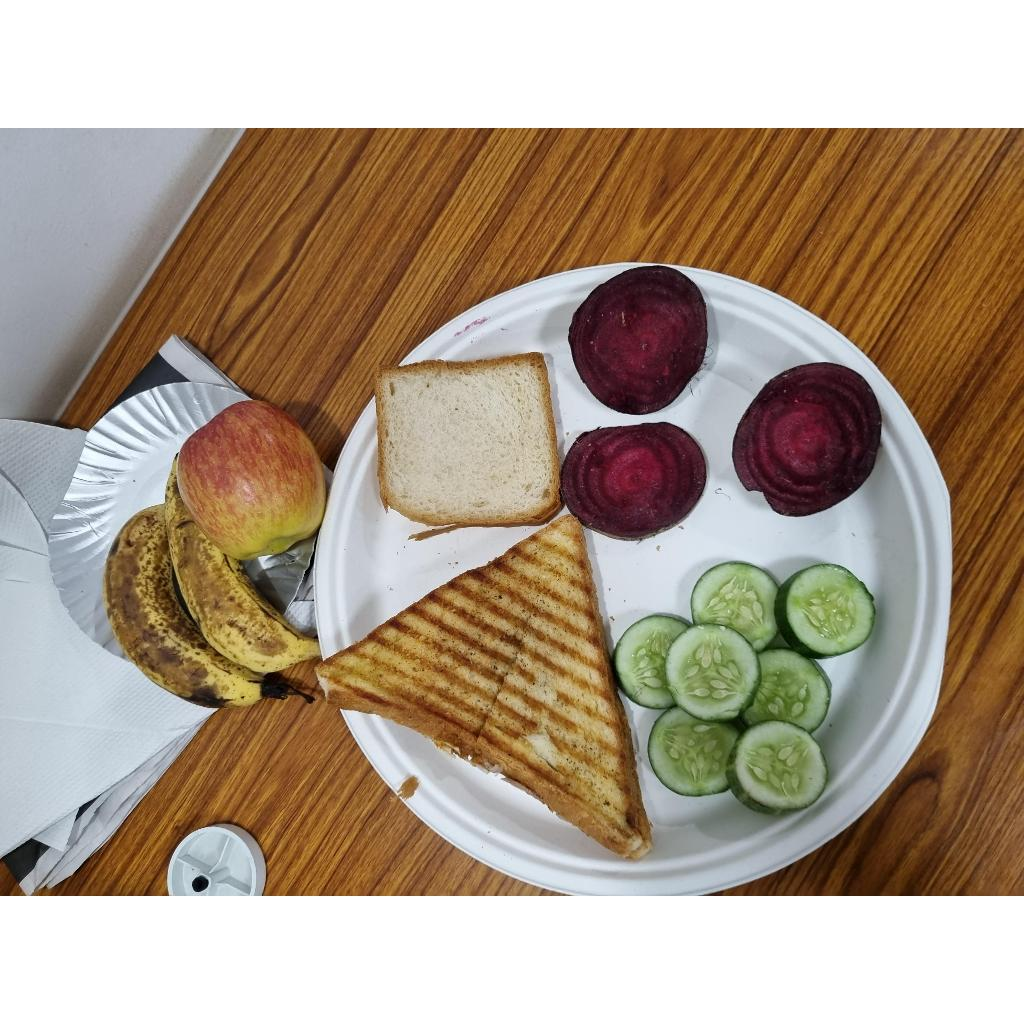apple: (173, 401, 328, 561)
banana: (103, 508, 262, 711), (161, 503, 317, 680)
cucumber: (687, 561, 808, 657), (776, 561, 878, 663), (641, 710, 749, 802), (730, 722, 832, 819), (668, 626, 762, 722), (737, 648, 834, 736), (613, 614, 696, 713)
